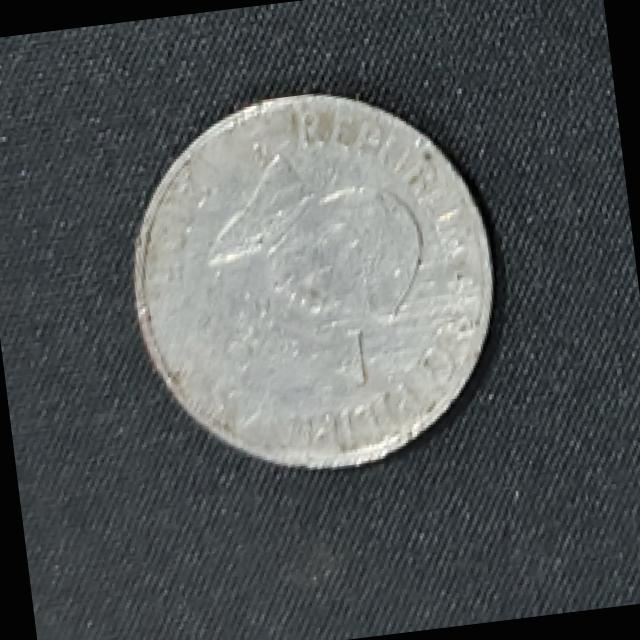1_peso: (133, 94, 492, 467)
